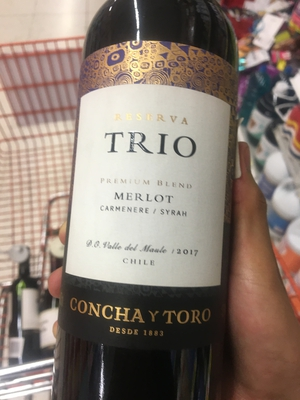trio merlot: (57, 7, 247, 400)
